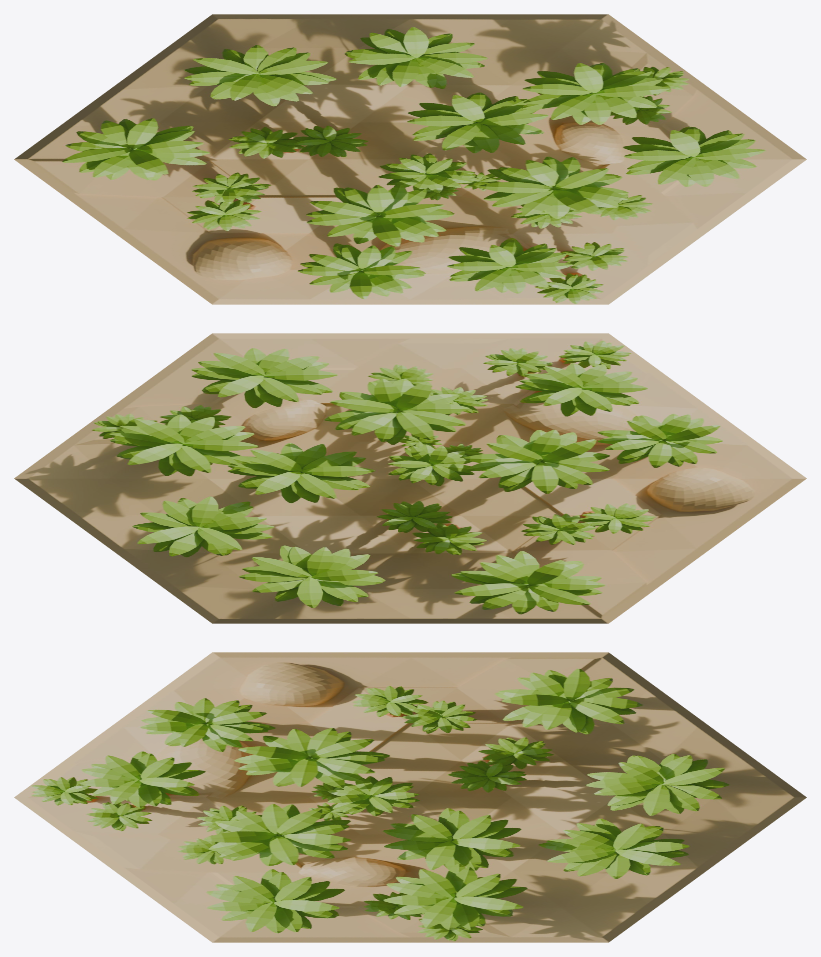
Rendered from beach.glb.
3 renders of one model, top to bottom at view 1: azimuth 30°, elevation 25°; view 2: azimuth 150°, elevation 25°; view 3: azimuth 270°, elevation 25°, orthographic.
Visible parts, largest first — view 1: Deciduousforest_flat; view 2: Deciduousforest_flat; view 3: Deciduousforest_flat.
Boxes of the visible parts, x1=… form: Deciduousforest_flat: x1=14, y1=14, x2=806, y2=304; Deciduousforest_flat: x1=14, y1=333, x2=806, y2=623; Deciduousforest_flat: x1=14, y1=652, x2=806, y2=942.
Bounding box in the file's own units: 1.73 × 0 × 2.
Materials: 1 (1 with a texture image).
